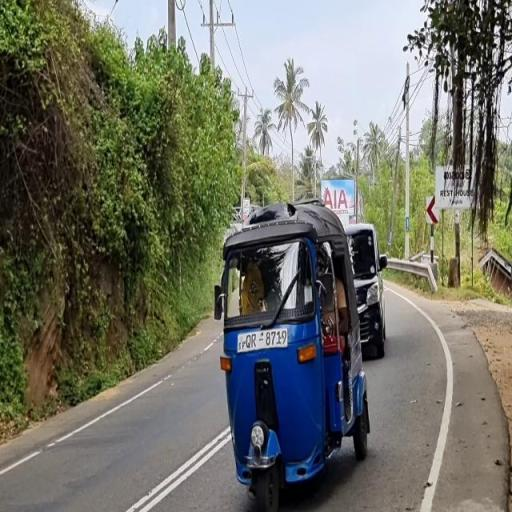double_white_line: (126, 427, 232, 511)
